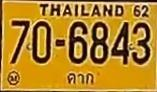0: (31, 20, 50, 62)
3: (131, 22, 149, 63)
4: (111, 21, 128, 64)
6: (68, 21, 86, 63)
7: (10, 20, 30, 63)
8: (90, 21, 107, 63)
TAK: (63, 69, 96, 87)
